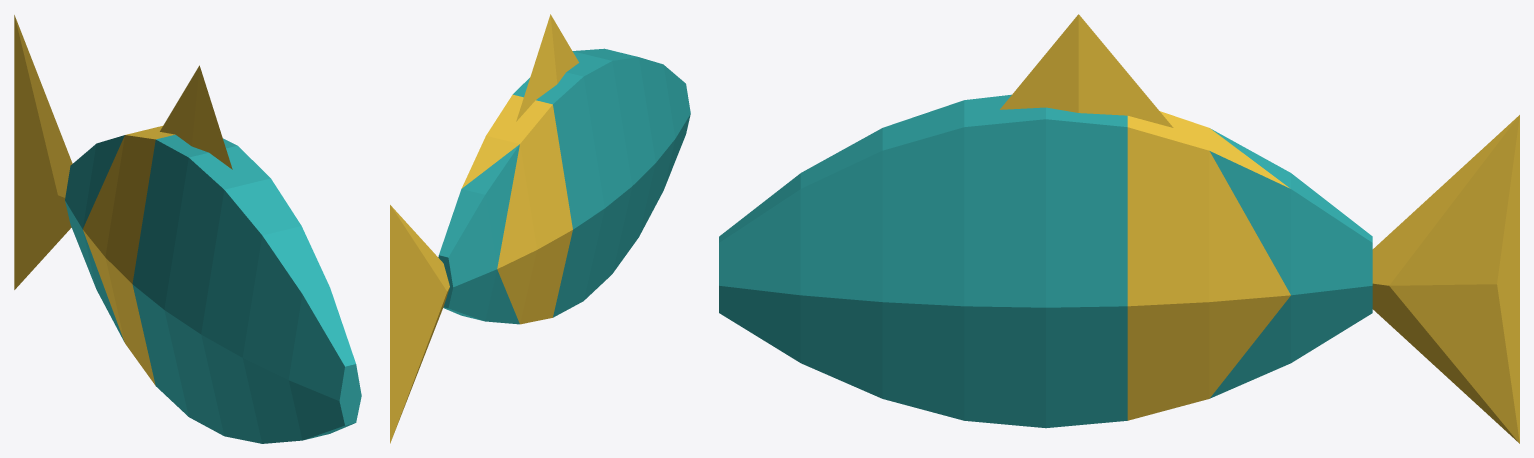
File: Fish_2.glb
3 renders of one model, left to right at view 1: azimuth 30°, elevation 25°; view 2: azimuth 150°, elevation 25°; view 3: azimuth 270°, elevation 25°, orthographic. The views are drawn at different scales.
Parts seen in each view (by area): view 1: Fish_2; view 2: Fish_2; view 3: Fish_2.
Boxes of the visible parts, x1,y1,x2,y2 form: Fish_2: (14, 15, 361, 443); Fish_2: (390, 14, 690, 443); Fish_2: (719, 14, 1519, 443).
Size of the model in its own units: 0.07 by 0.2468 by 0.4165.
